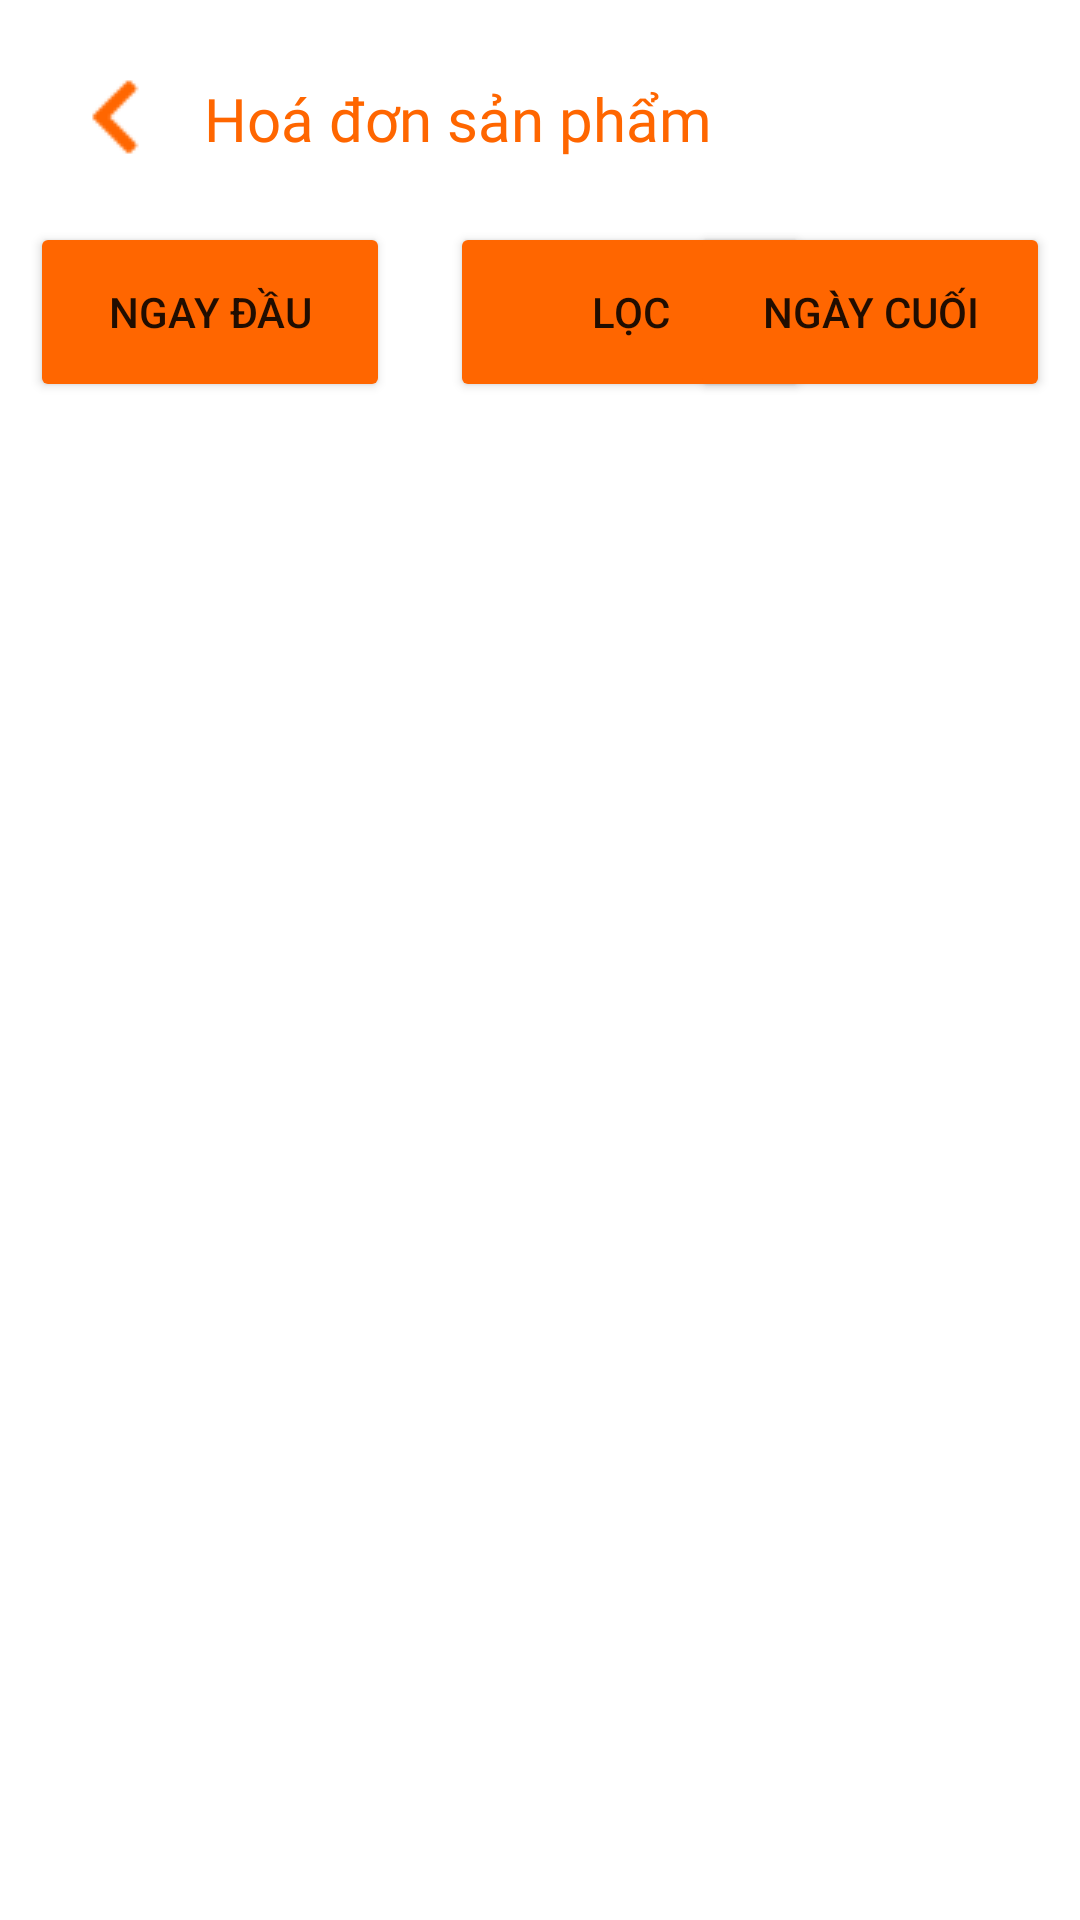

Point at icon controls on the screen. Image size 1080 × 1920, points as [x,y].
back: [115,117]
